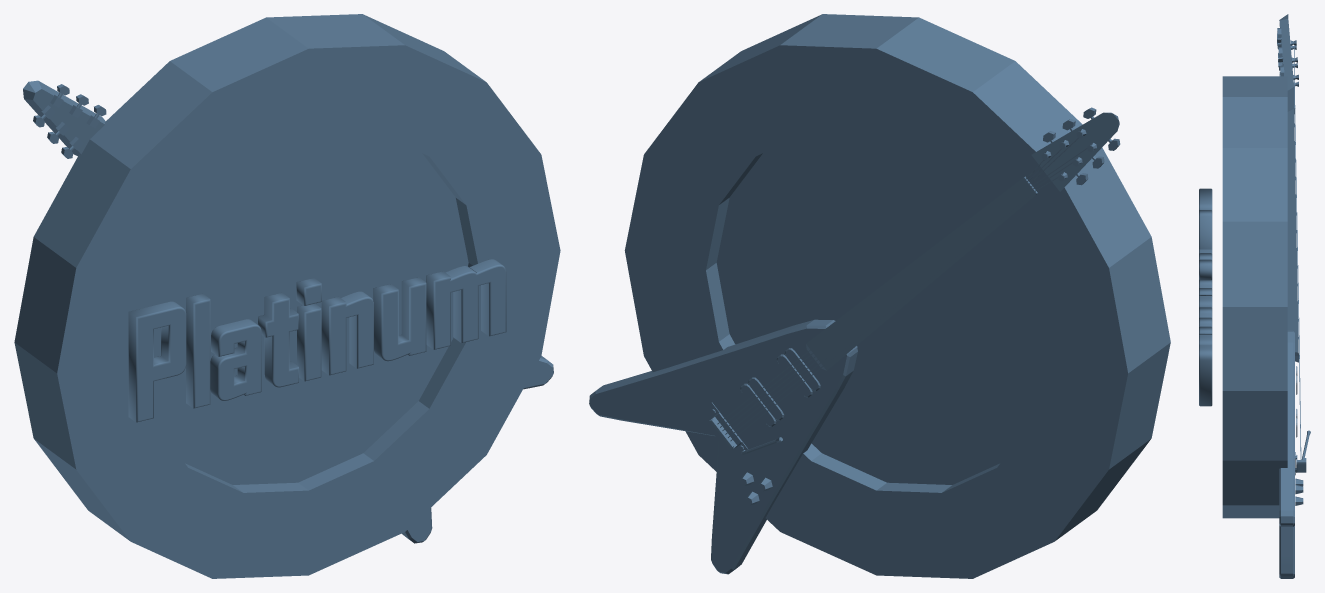
The model's file is Platinum_Guitar.glb.
3 renders of one model, left to right at view 1: azimuth 30°, elevation 25°; view 2: azimuth 150°, elevation 25°; view 3: azimuth 270°, elevation 25°, orthographic. The views are drawn at different scales.
Visible parts, largest first — view 1: Coin, Platinum Text, Electric Guitar; view 2: Coin, Electric Guitar; view 3: Coin, Electric Guitar, Platinum Text.
Part boxes in pixels (left/top/right/bottom): Coin: left=14, top=14, right=560, bottom=578; Platinum Text: left=128, top=259, right=506, bottom=422; Electric Guitar: left=23, top=80, right=553, bottom=543; Coin: left=624, top=14, right=1170, bottom=578; Electric Guitar: left=589, top=107, right=1120, bottom=574; Coin: left=1222, top=76, right=1287, bottom=518; Electric Guitar: left=1277, top=14, right=1310, bottom=578; Platinum Text: left=1199, top=188, right=1212, bottom=406.
Bounding box in the file's own units: 1.05 × 1.05 × 0.2498.
